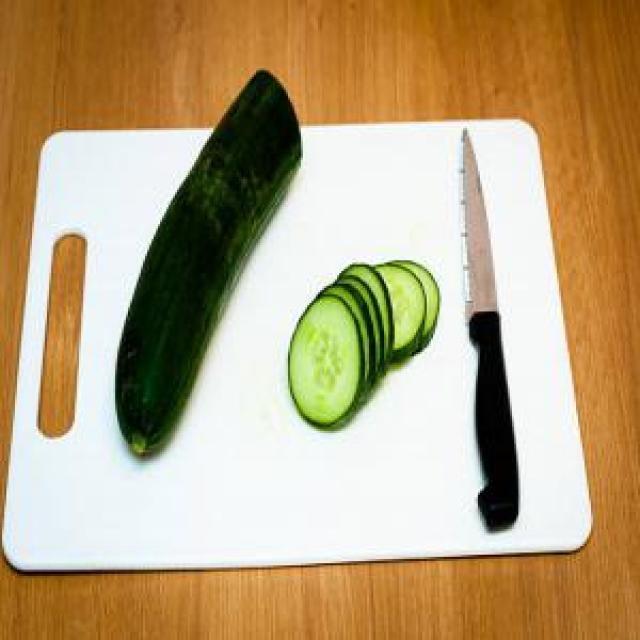knife: (459, 126, 527, 540)
